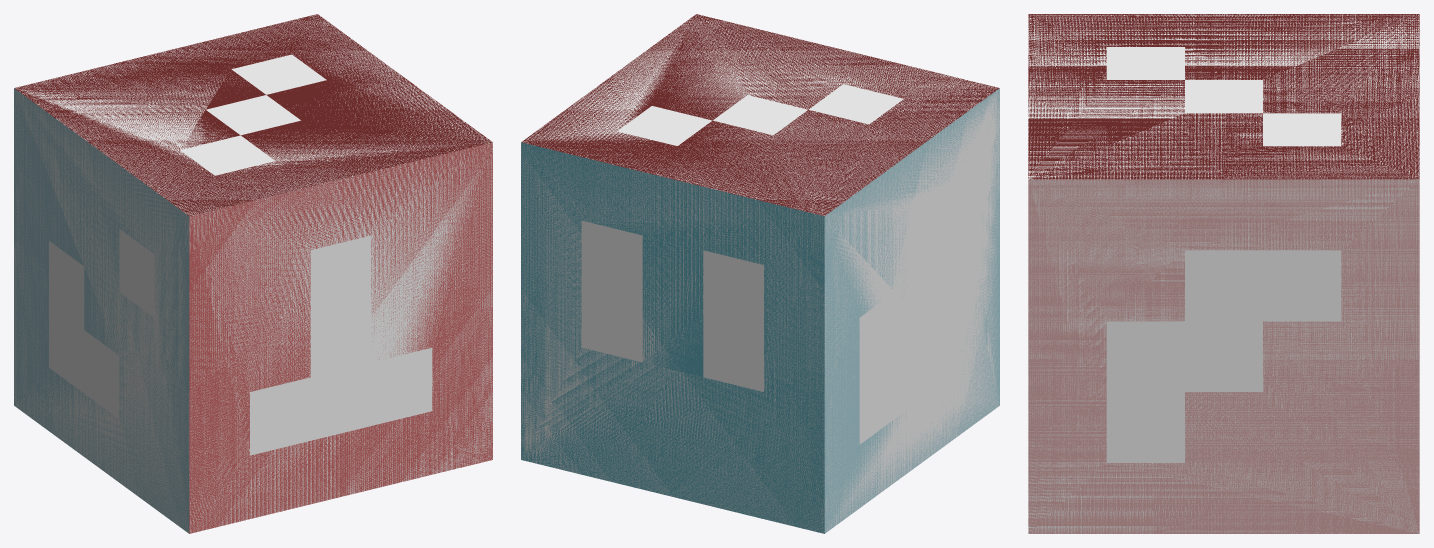
Rendered from 3D maze_001.4.fbx.
3 views of the same model, side by side, from view 1: azimuth 30°, elevation 25°; view 2: azimuth 150°, elevation 25°; view 3: azimuth 270°, elevation 25° (orthographic). The views are drawn at different scales.
Parts seen in each view (by area): view 1: Model, Group1; view 2: Group1, Model; view 3: Model, Group1.
Boxes of the visible parts, x1,y1,x2,y2 form: Model: (14,14,492,533); Group1: (14,14,492,532); Group1: (521,14,999,533); Model: (521,14,999,533); Model: (1028,14,1419,533); Group1: (1028,14,1419,533).
Size of the model in its own units: 10 by 10 by 10.
